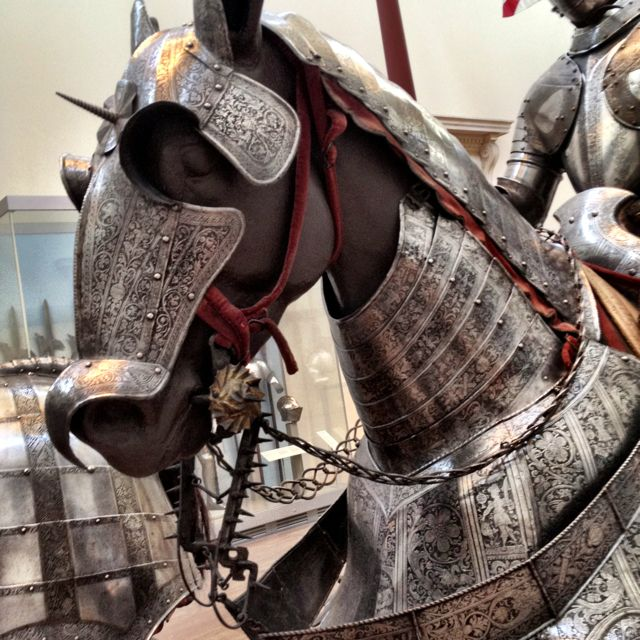Horse: (30, 2, 566, 545)
